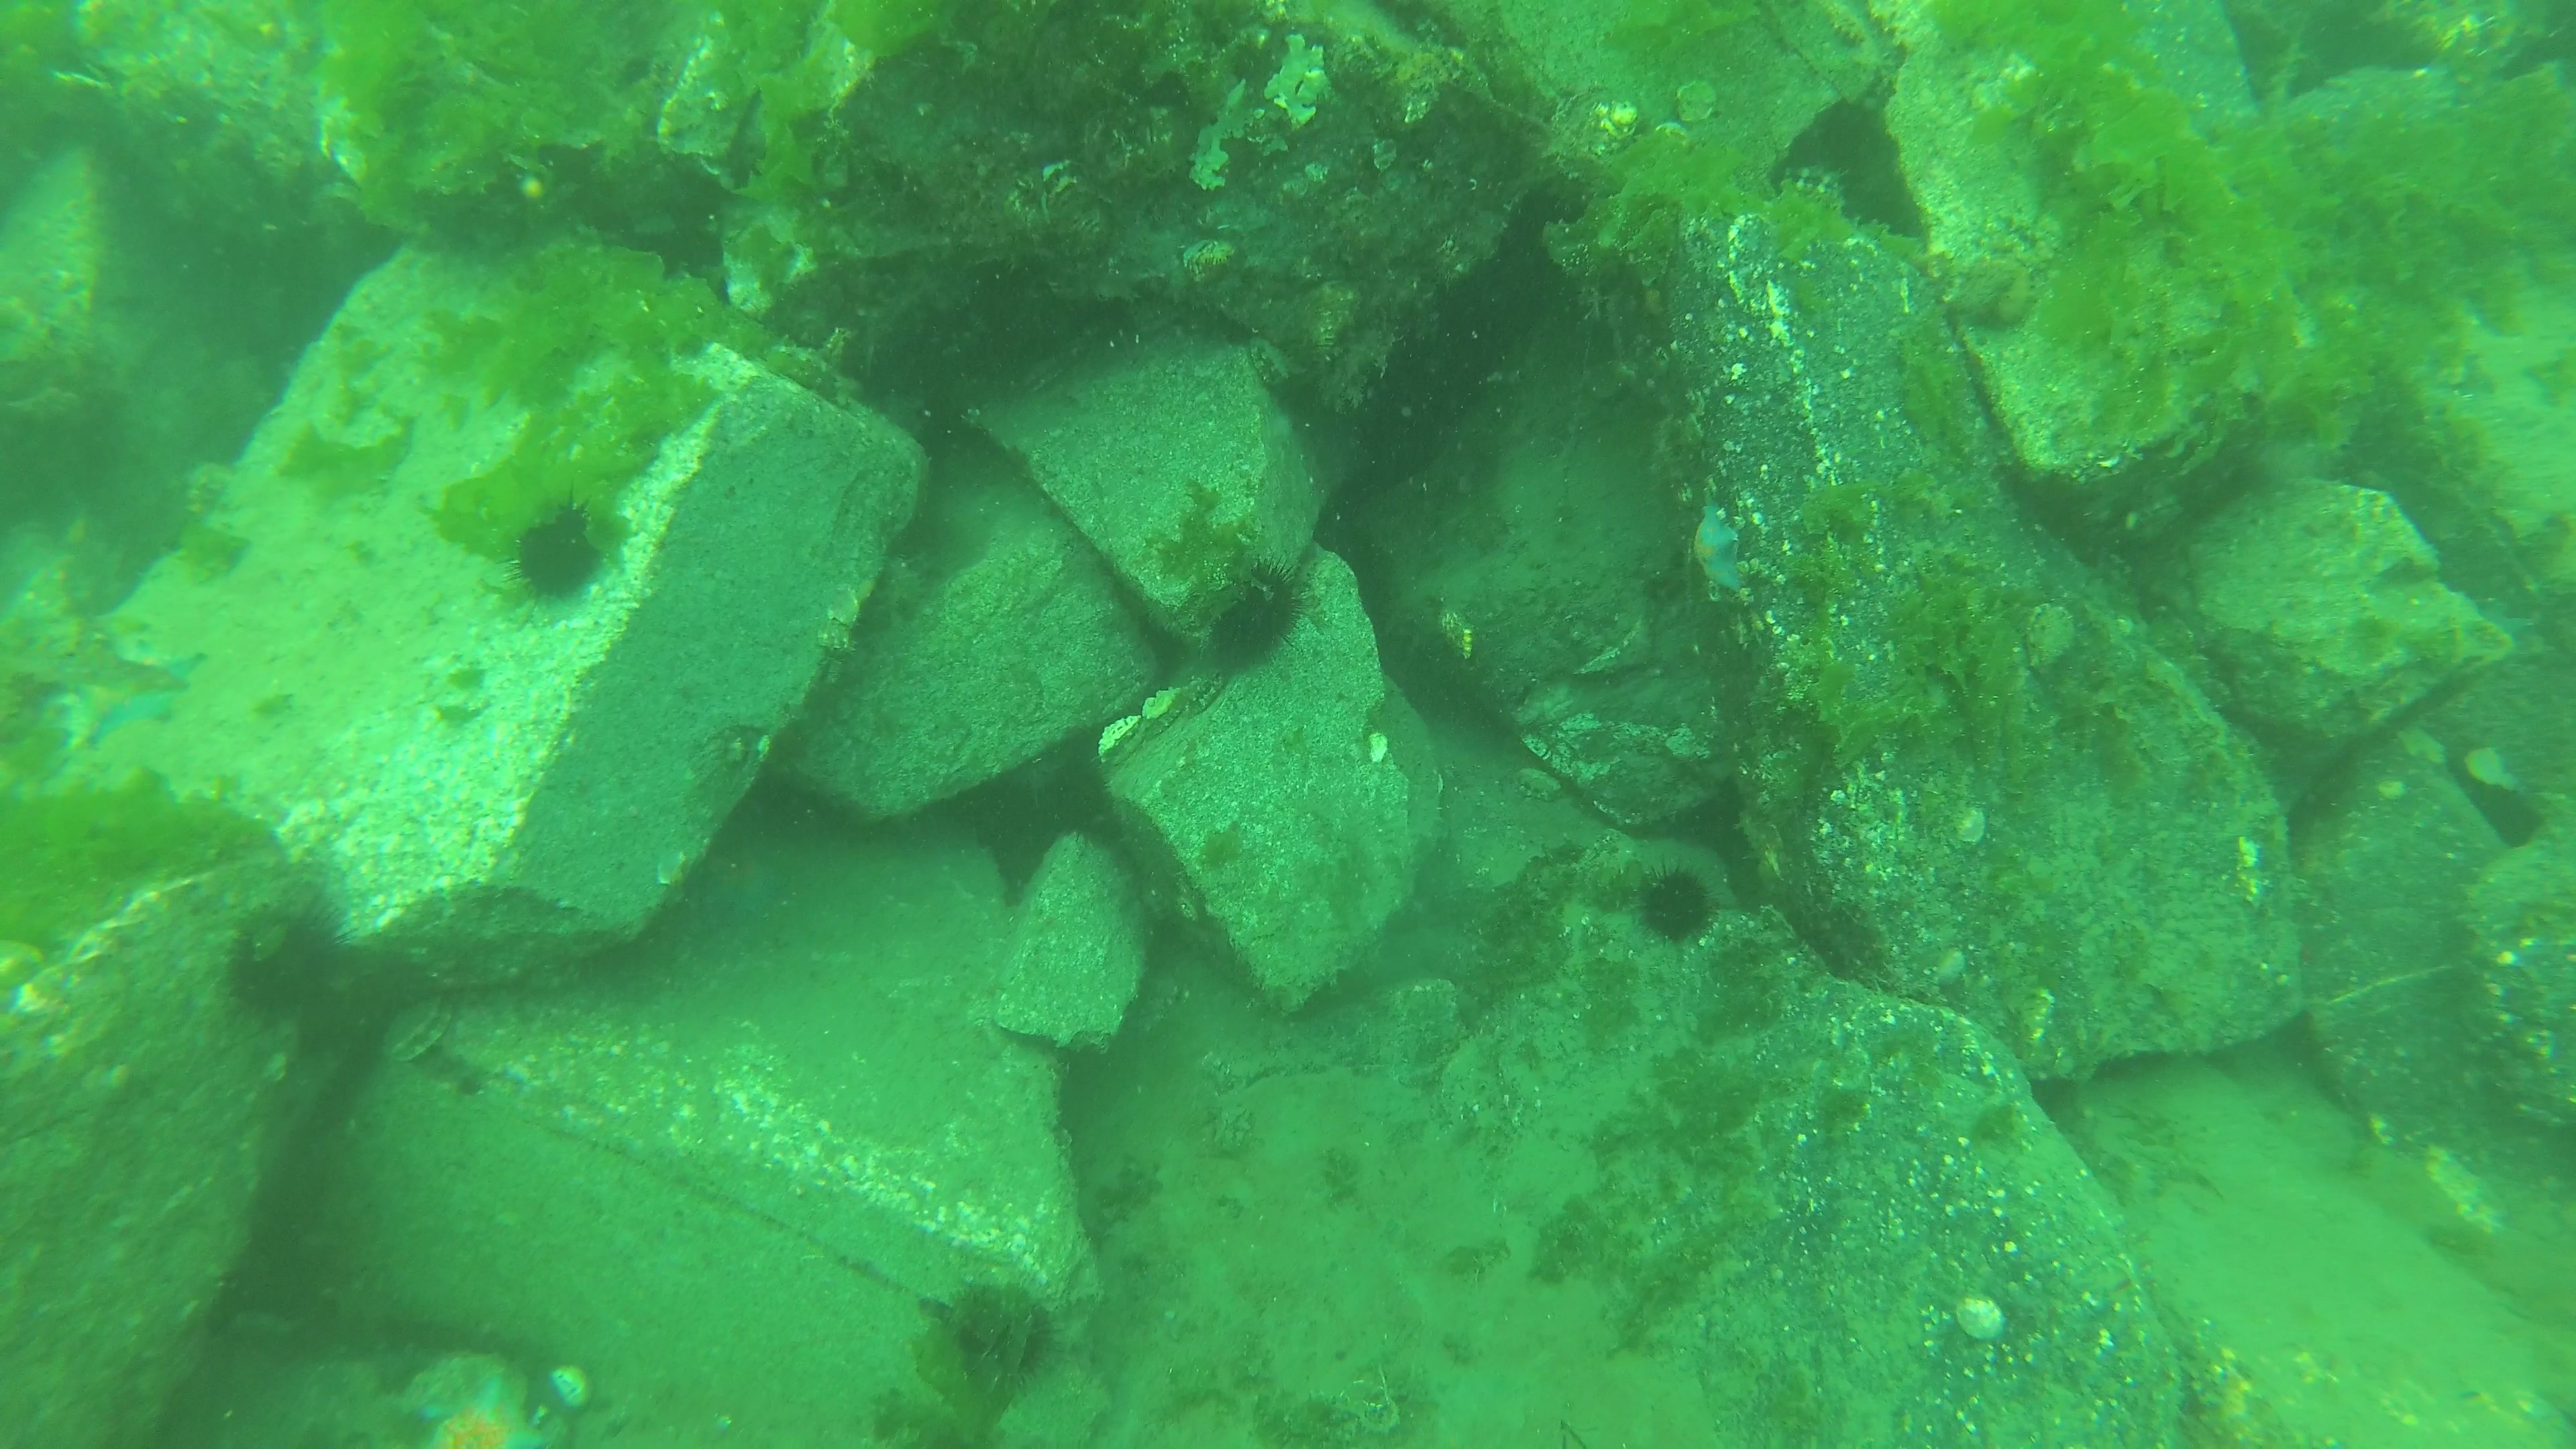echinus: (932, 1274, 1069, 1403), (225, 895, 352, 1021), (499, 501, 600, 607), (1212, 561, 1304, 669), (1633, 863, 1727, 947)
holothurian: (876, 552, 931, 630)
starfish: (65, 640, 209, 752), (419, 1375, 548, 1449), (1691, 488, 1743, 594)
